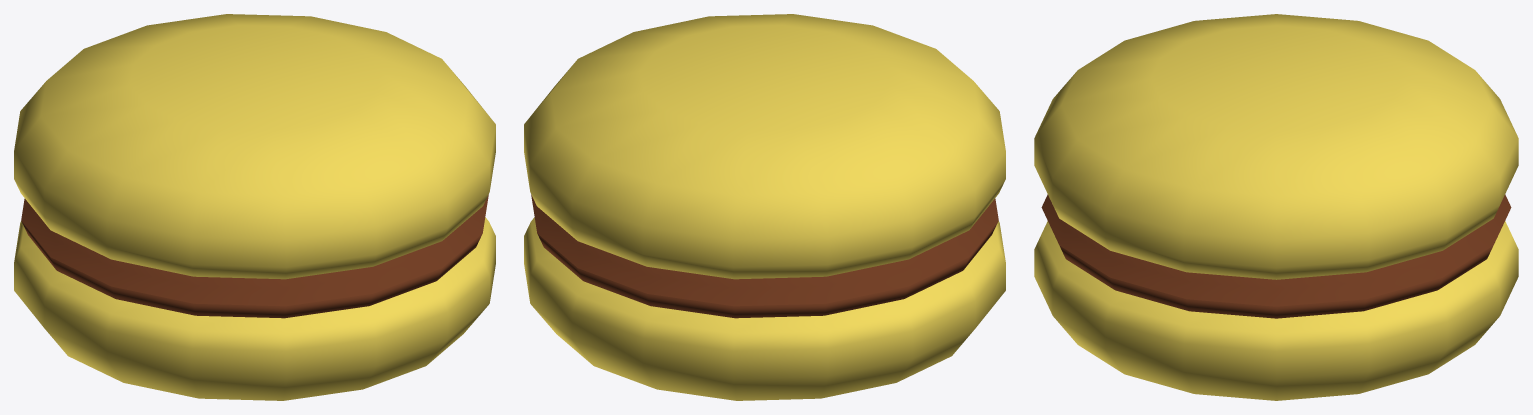
File: SM_macaron_03.fbx
3 views of the same model, side by side, from view 1: azimuth 30°, elevation 25°; view 2: azimuth 150°, elevation 25°; view 3: azimuth 270°, elevation 25° (orthographic).
Parts seen in each view (by area): view 1: SM_macaron_03; view 2: SM_macaron_03; view 3: SM_macaron_03.
Boxes of the visible parts, left/top/right/bottom form: SM_macaron_03: left=14, top=14, right=495, bottom=400; SM_macaron_03: left=524, top=14, right=1005, bottom=400; SM_macaron_03: left=1034, top=14, right=1518, bottom=400.
Bounding box in the file's own units: 9.06 × 5.33 × 9.06.
Materials: 1 (1 with a texture image).
